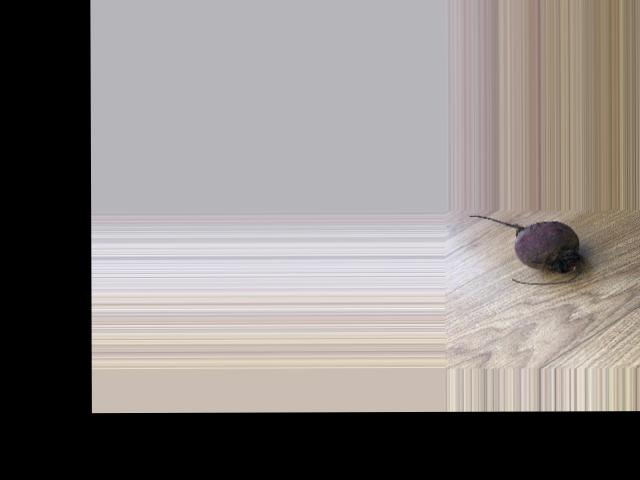beet: (468, 214, 582, 284)
